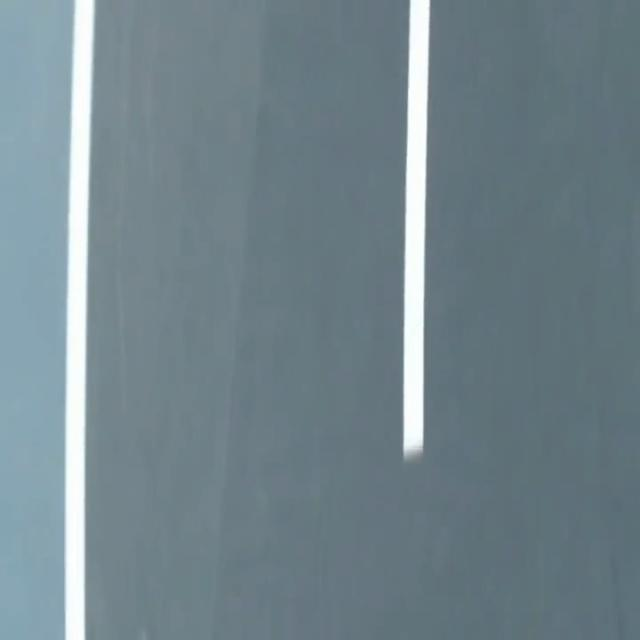center: (403, 0, 429, 460)
left: (65, 0, 94, 639)
